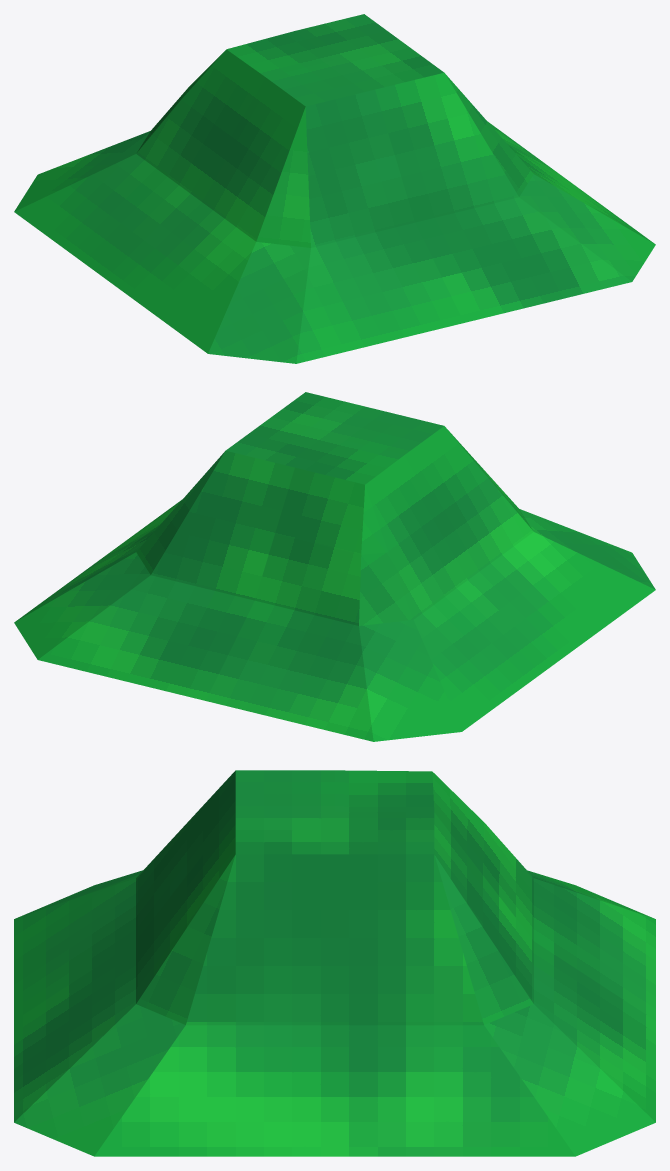
File: slime.fbx
3 renders of one model, top to bottom at view 1: azimuth 30°, elevation 25°; view 2: azimuth 150°, elevation 25°; view 3: azimuth 270°, elevation 25°, orthographic. The views are drawn at different scales.
Parts seen in each view (by area): view 1: beveled_cuboid; view 2: beveled_cuboid; view 3: beveled_cuboid.
Part boxes in pixels (x1=…): beveled_cuboid: x1=14, y1=14, x2=655, y2=363; beveled_cuboid: x1=14, y1=392, x2=655, y2=741; beveled_cuboid: x1=14, y1=770, x2=655, y2=1156.
Bounding box in the file's own units: 141 × 55.62 × 141.
1 material, 1 textured.
